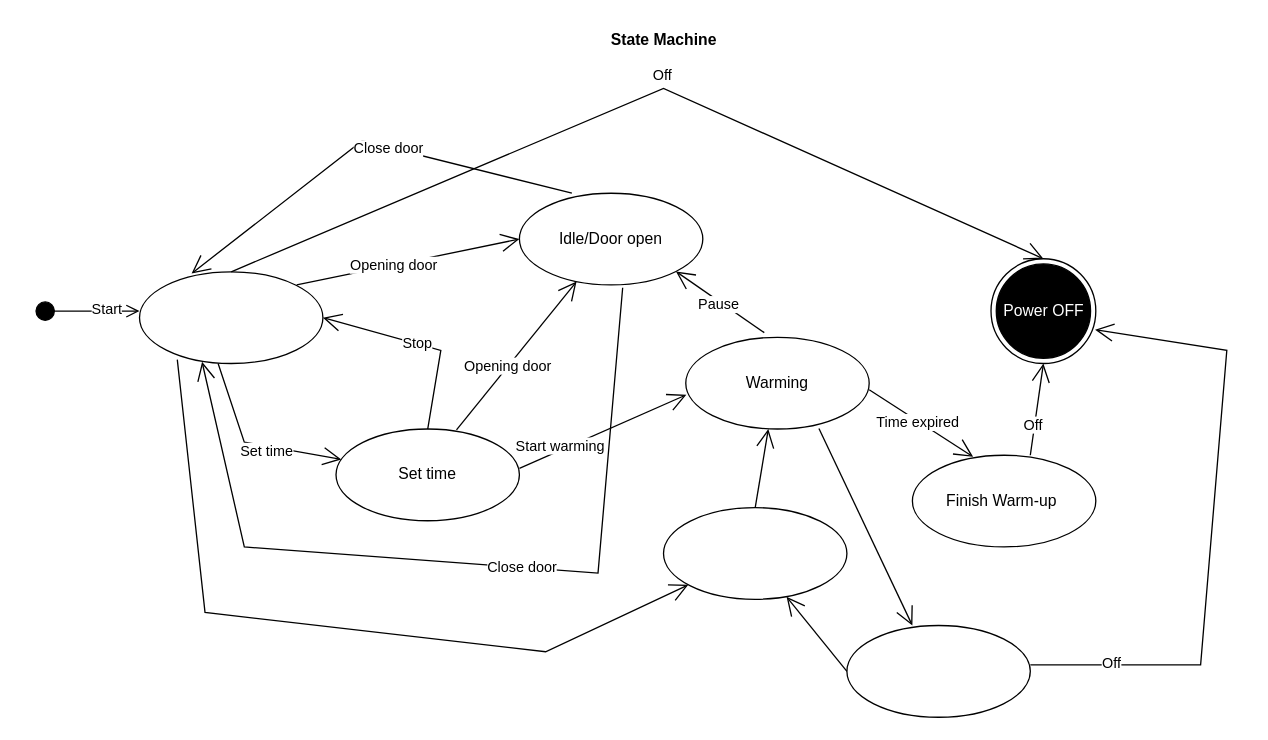
Some shapes in this 1268 by 740 pixel diagram are drawn without their labels. Each missing label, with the box of its shape:
Iddle/Click "Pause": (846, 624, 1030, 717)
Iddle/Continue warming: (662, 506, 847, 599)
Idle/door closed T=0: (138, 271, 323, 364)
